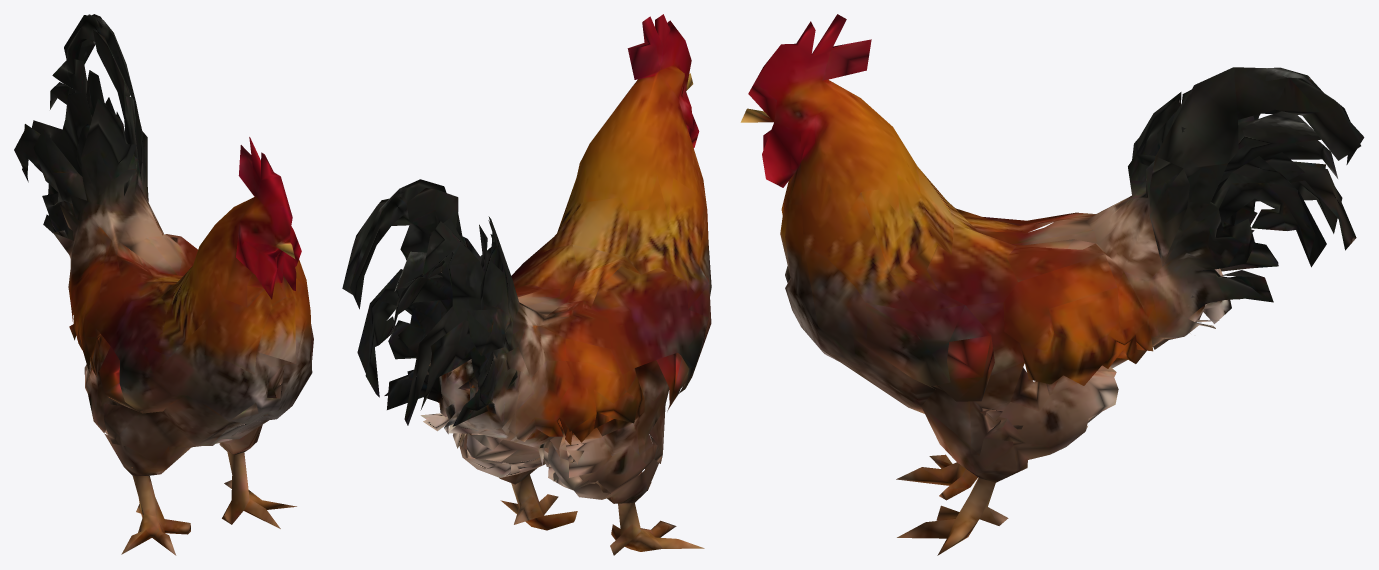
The model's file is gongji.glb.
3 views of the same model, side by side, from view 1: azimuth 30°, elevation 25°; view 2: azimuth 150°, elevation 25°; view 3: azimuth 270°, elevation 25° (orthographic). The views are drawn at different scales.
Visible parts, largest first — view 1: tripo_node_97373c82-274a-4265-b946-fa02dae3683f; view 2: tripo_node_97373c82-274a-4265-b946-fa02dae3683f; view 3: tripo_node_97373c82-274a-4265-b946-fa02dae3683f.
Part boxes in pixels (<box>): tripo_node_97373c82-274a-4265-b946-fa02dae3683f: <box>14,14,313,555</box>; tripo_node_97373c82-274a-4265-b946-fa02dae3683f: <box>342,14,711,555</box>; tripo_node_97373c82-274a-4265-b946-fa02dae3683f: <box>740,14,1364,555</box>.
Size of the model in its own units: 0.4422 by 1 by 1.14.
Materials: 1 (1 with a texture image).
